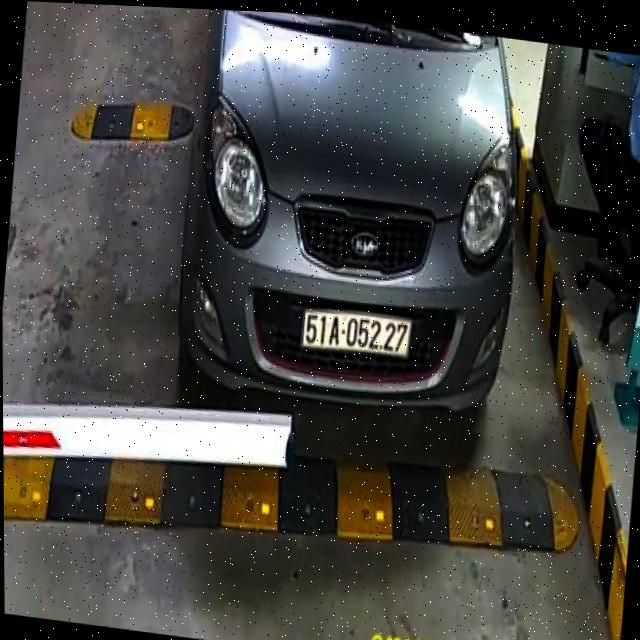car: (168, 7, 536, 443)
plate: (298, 303, 413, 362)
